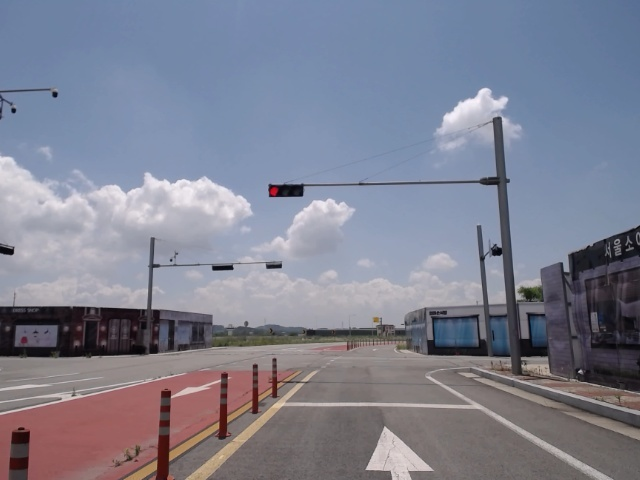red_3: (266, 184, 306, 198)
